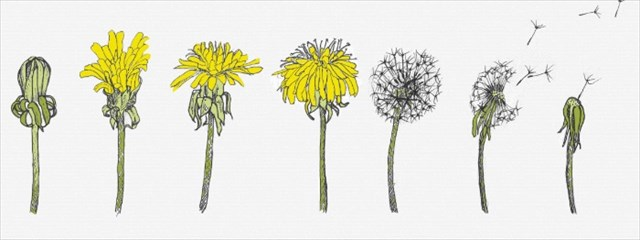dandelion: (271, 51, 369, 101), (90, 36, 153, 93), (178, 42, 251, 88)
